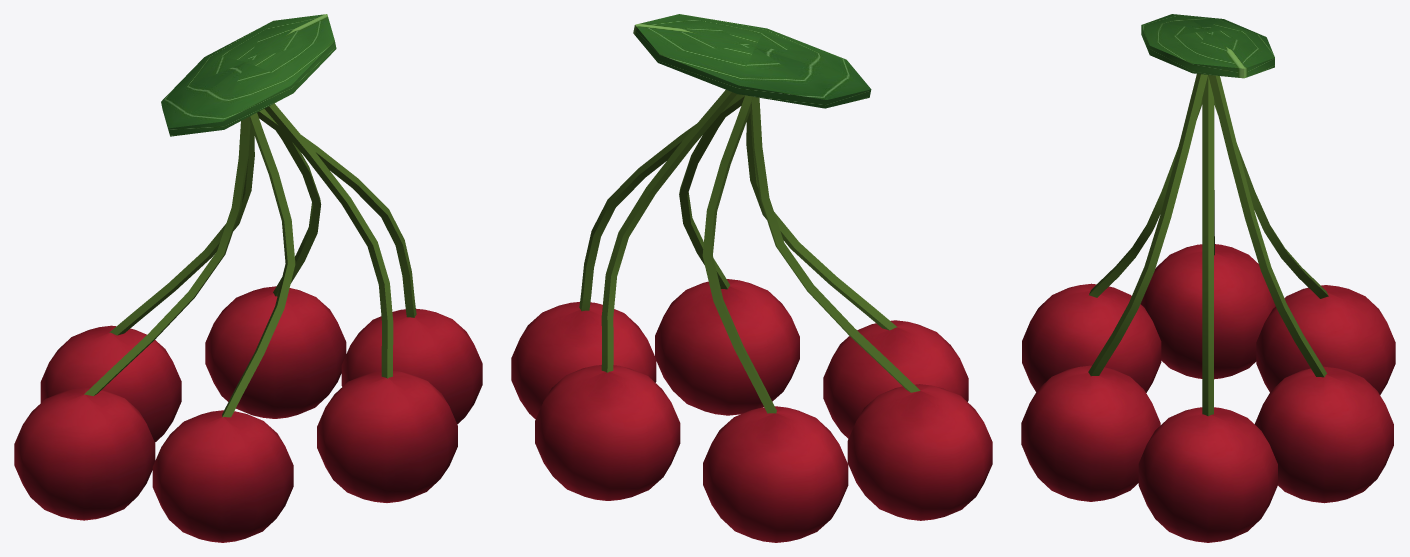
Rendered from fruit_cherries_stems.glb.
3 renders of one model, left to right at view 1: azimuth 30°, elevation 25°; view 2: azimuth 150°, elevation 25°; view 3: azimuth 270°, elevation 25°, orthographic. The views are drawn at different scales.
Visible parts, largest first — view 1: fruit_cherries_stems; view 2: fruit_cherries_stems; view 3: fruit_cherries_stems.
Boxes of the visible parts, x1=… form: fruit_cherries_stems: x1=14, y1=14, x2=482, y2=542; fruit_cherries_stems: x1=511, y1=14, x2=992, y2=542; fruit_cherries_stems: x1=1021, y1=14, x2=1395, y2=542.
Bounding box in the file's own units: 0.0826 × 0.0744 × 0.0582.
3 materials, 2 textured.
